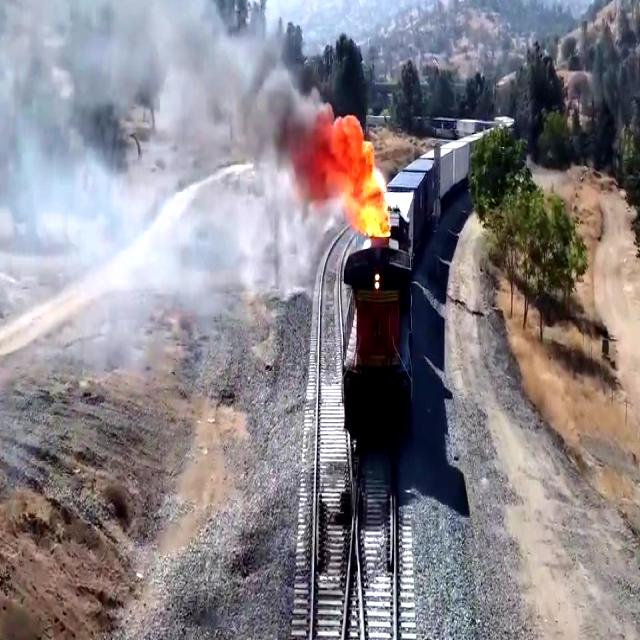fire: (315, 113, 397, 245)
smoke: (25, 0, 312, 301)
